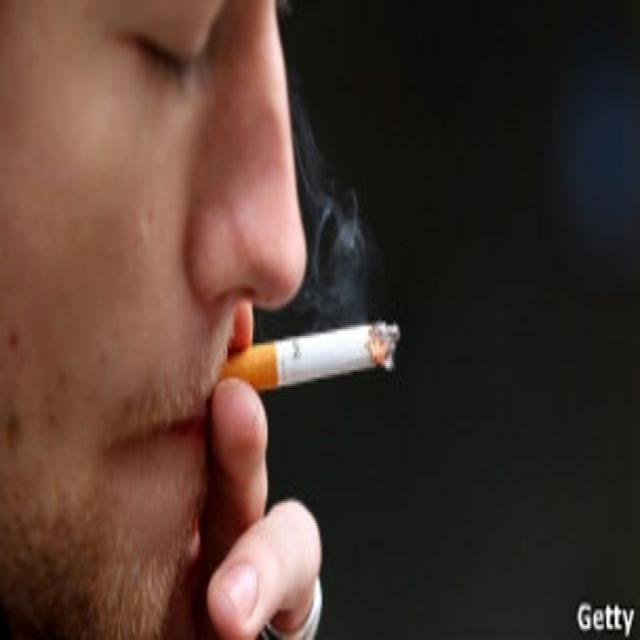rokok: (217, 317, 405, 398)
